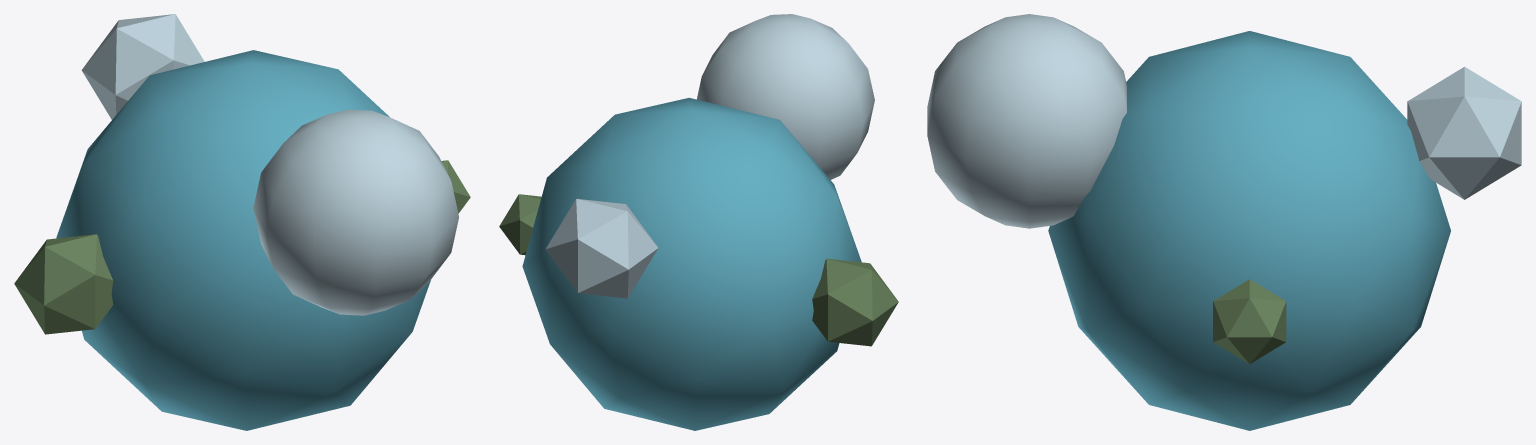
Rendered from wind_sylph.glb.
The picture shows the model from 3 angles, left to right: view 1: azimuth 30°, elevation 25°; view 2: azimuth 150°, elevation 25°; view 3: azimuth 270°, elevation 25°; orthographic projection. The views are drawn at different scales.
Parts seen in each view (by area): view 1: body_core, head_core, orb_2, orb_3, orb_0; view 2: body_core, head_core, orb_3, orb_2, orb_0; view 3: body_core, head_core, orb_3, orb_0.
Part boxes in pixels (<box>): body_core: <box>56,50,430,430</box>; head_core: <box>253,109,458,315</box>; orb_2: <box>14,234,113,334</box>; orb_3: <box>81,14,204,119</box>; orb_0: <box>441,160,470,213</box>; body_core: <box>522,98,861,430</box>; head_core: <box>697,14,874,179</box>; orb_3: <box>545,199,658,298</box>; orb_2: <box>812,258,898,346</box>; orb_0: <box>499,194,541,255</box>; body_core: <box>1048,31,1450,430</box>; head_core: <box>927,14,1126,228</box>; orb_3: <box>1407,66,1521,199</box>; orb_0: <box>1213,279,1286,364</box>.
Size of what is drawn, in the model's own units: 1.92 by 1.6 by 2.21.
